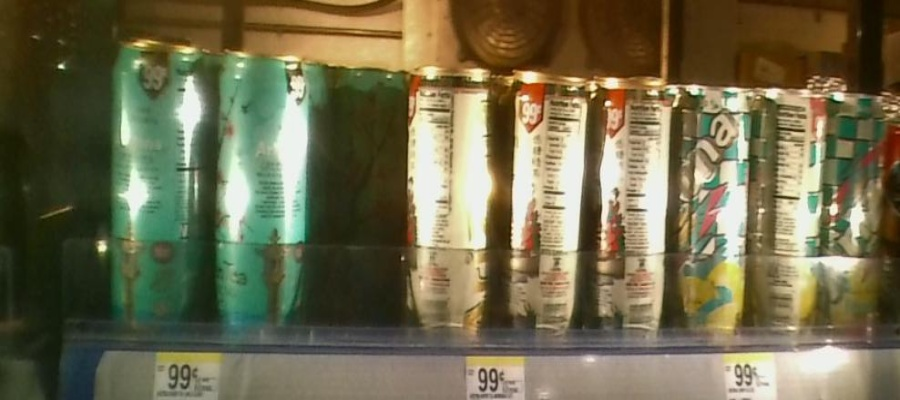bottle: (103, 28, 210, 345), (215, 34, 310, 356), (405, 46, 496, 348), (505, 60, 588, 354), (595, 55, 676, 347), (678, 65, 752, 356), (330, 44, 404, 328), (757, 71, 826, 344), (831, 71, 890, 350)
